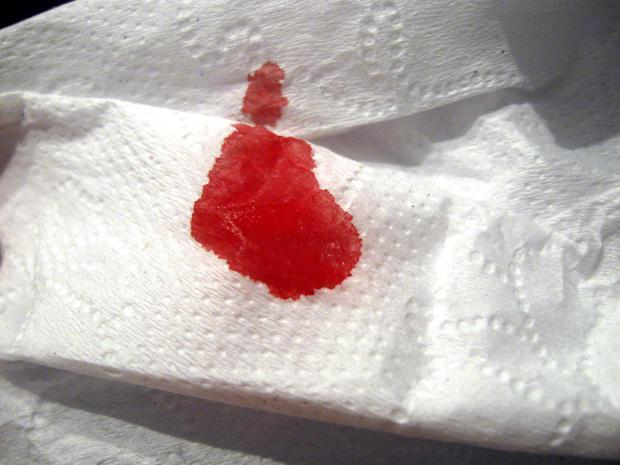Fire: (191, 61, 362, 300)
